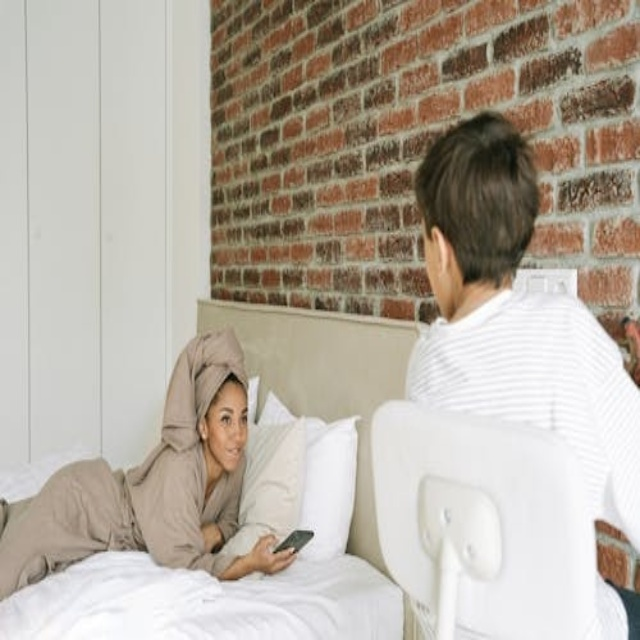Sin_gafas: (213, 413, 249, 434)
Sin_guantes: (253, 527, 303, 575)
Sin_mascara: (216, 438, 241, 467)
